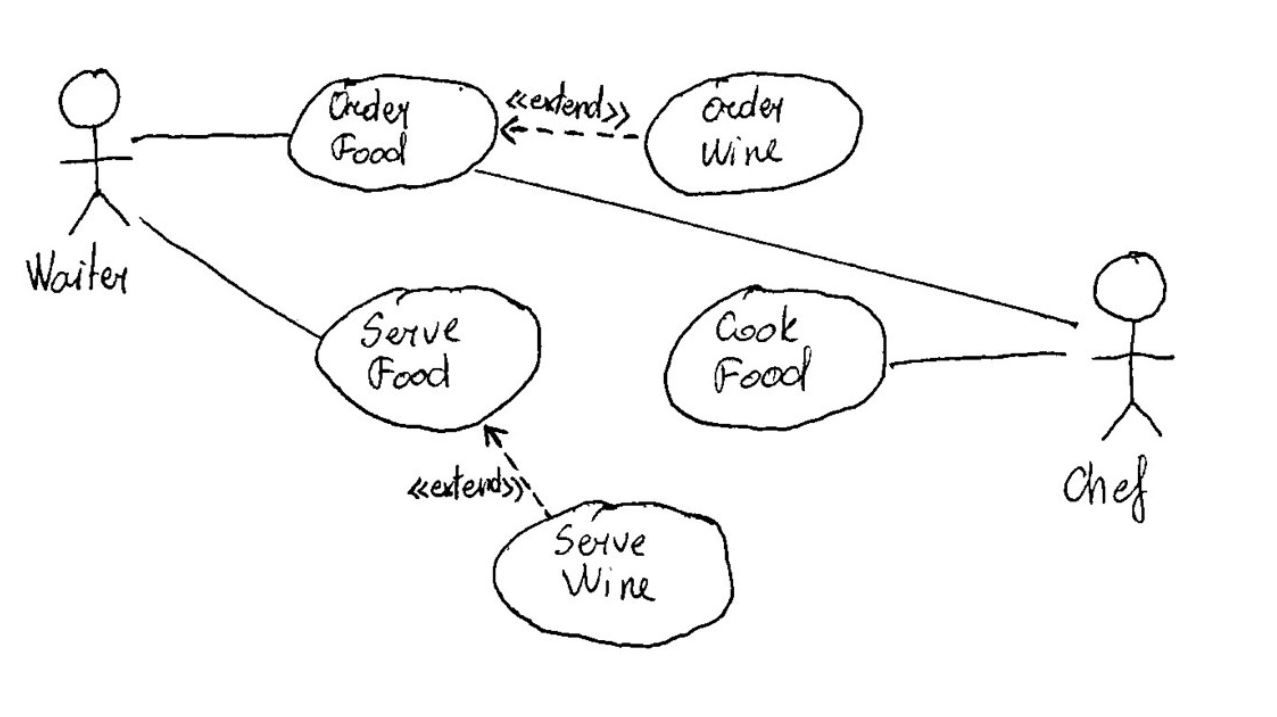actor: (1080, 252, 1180, 442), (49, 63, 136, 240)
association: (474, 167, 1080, 327), (136, 211, 318, 337), (498, 104, 641, 154), (480, 422, 554, 518), (127, 114, 283, 157), (889, 344, 1068, 381)
text: (357, 309, 476, 399), (708, 308, 819, 401), (555, 521, 663, 613), (324, 89, 421, 172), (1060, 452, 1163, 530), (696, 87, 789, 172), (13, 246, 133, 302), (504, 82, 632, 130), (401, 463, 529, 508)
use_case: (492, 500, 736, 647), (310, 283, 543, 435), (664, 283, 888, 433), (641, 68, 865, 198), (287, 72, 499, 193)
